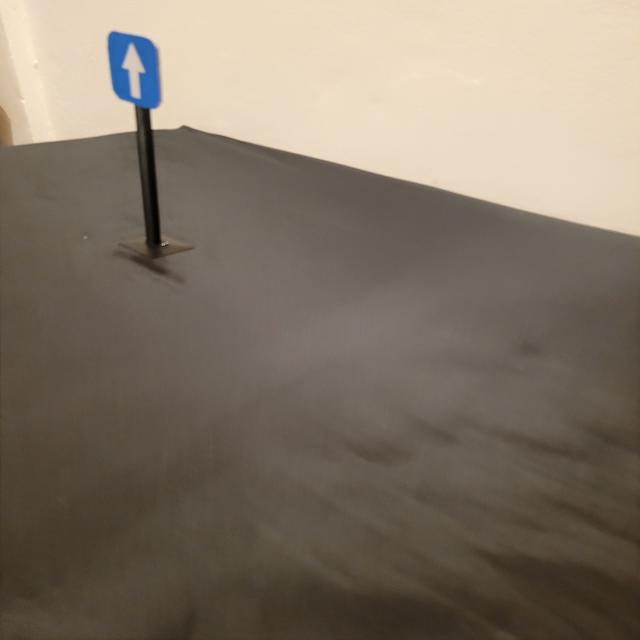one_way: (105, 30, 162, 110)
